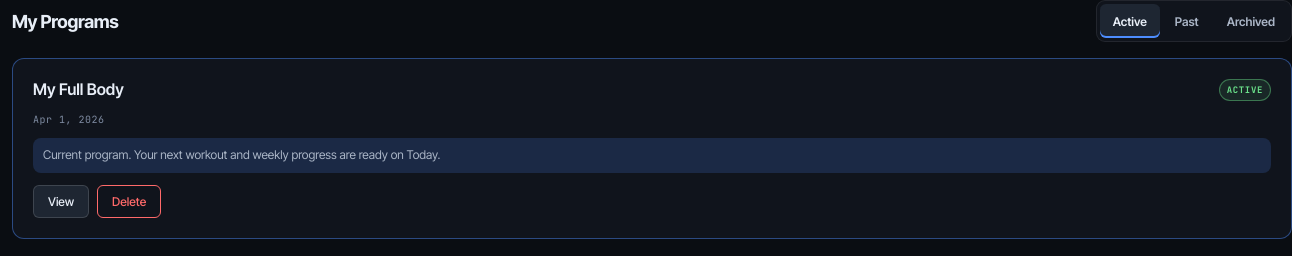
Test case: <MyLibrary> › Restart button is hidden when template_slug is null (archived template)
expect the heading "My Full Body" is shown: met, box x1=33 y1=79 x2=124 y2=99
Click the button "Past". click: (1187, 21)
box: x1=1162 y1=4 x2=1212 y2=38
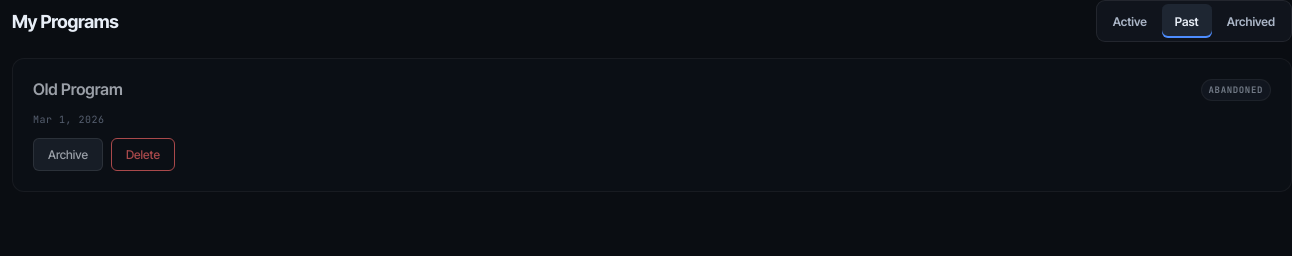
expect the heading "Old Program" is shown: met, box x1=33 y1=79 x2=123 y2=99
